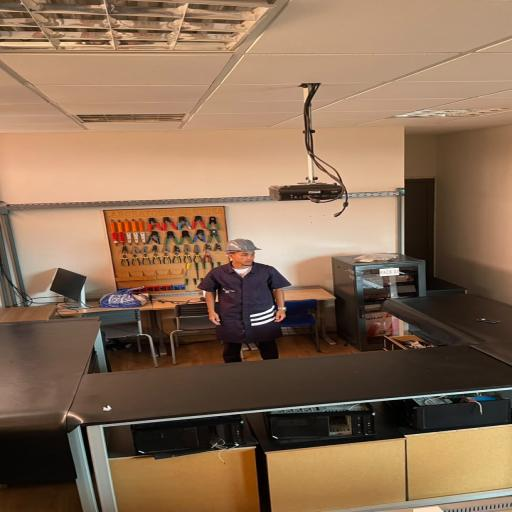CAPACETE: (224, 238, 262, 252)
